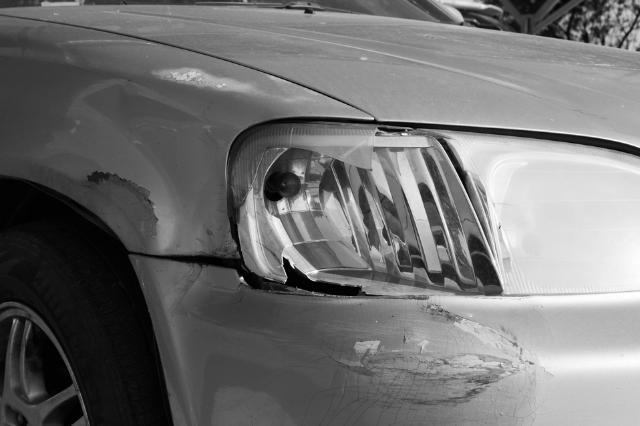Bumper: (130, 254, 527, 426)
Fender: (53, 147, 237, 254)
Light: (231, 132, 485, 308)
